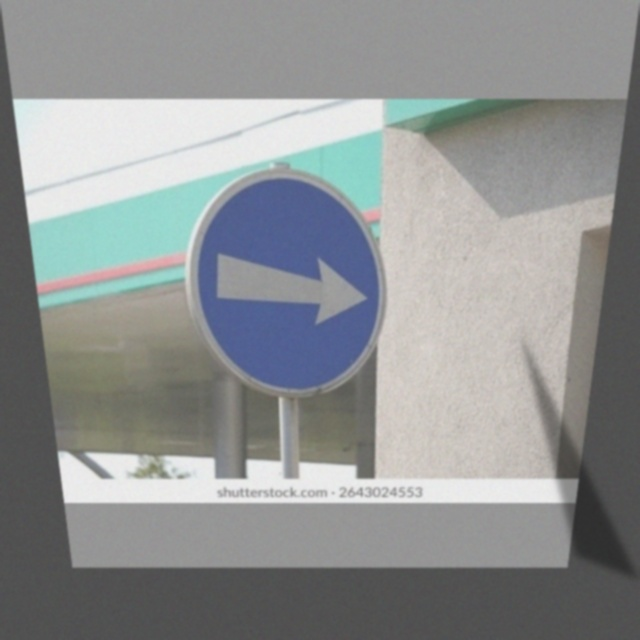Compulsory_Turn_Right: (185, 165, 396, 398)
